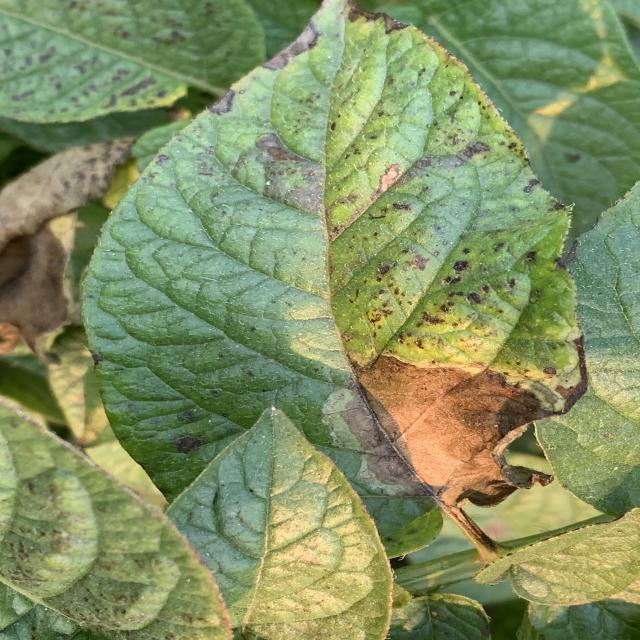lateblight: (358, 355, 563, 508), (310, 381, 430, 498), (242, 132, 323, 215), (262, 24, 322, 70), (208, 89, 237, 115)
